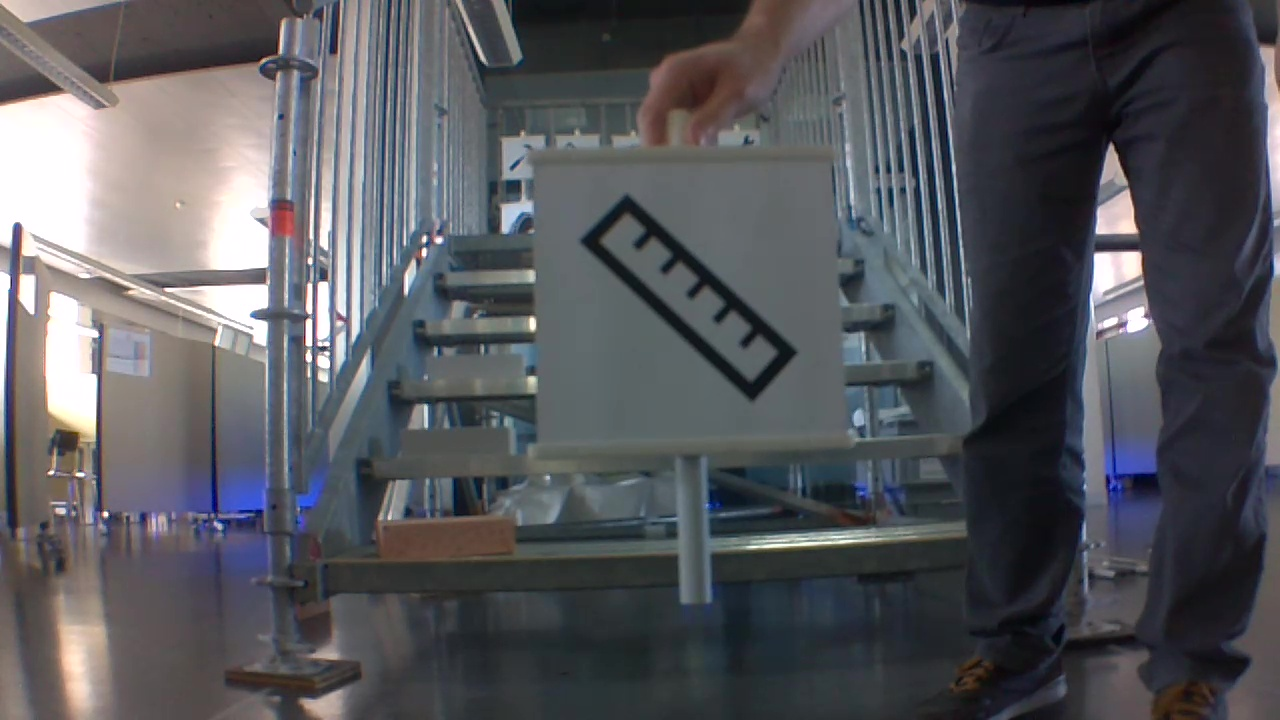brick: (368, 510, 513, 563), (420, 352, 525, 385), (399, 427, 514, 453)
edge: (325, 526, 990, 601)
ruler: (574, 184, 802, 403)
taco: (507, 210, 534, 237)
